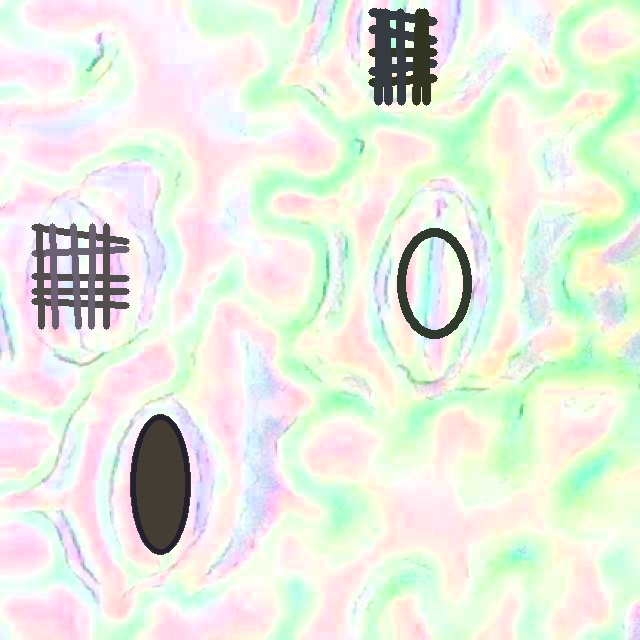open: (31, 224, 129, 329), (396, 227, 473, 338), (131, 414, 190, 555), (368, 8, 437, 105)
